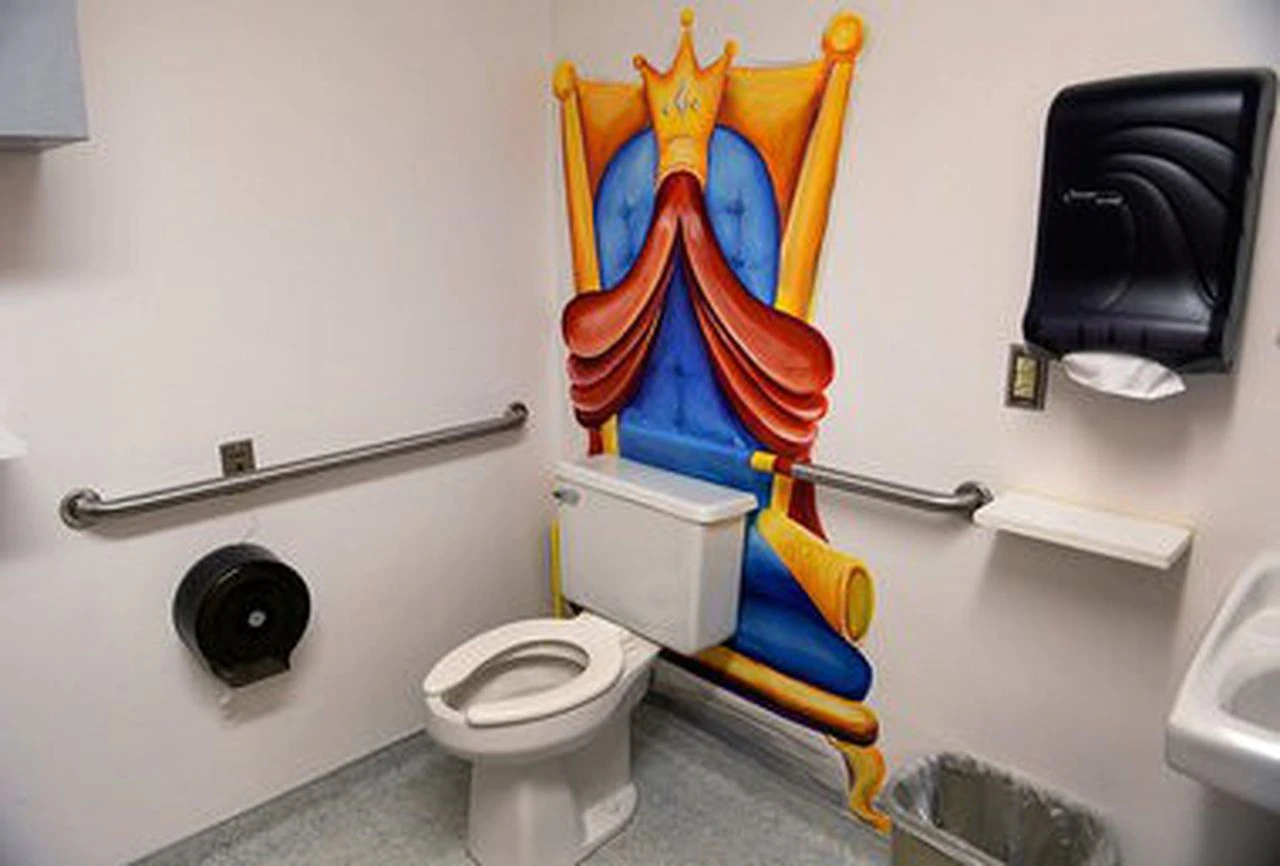dispenser: (1023, 65, 1280, 404), (174, 539, 314, 708)
restroom_assist_bar: (55, 404, 535, 528), (616, 419, 996, 521)
sink: (1163, 547, 1280, 813)
toilet: (422, 452, 758, 866)
toilet_handle: (545, 483, 588, 513)
waste_bin: (878, 746, 1121, 866)
